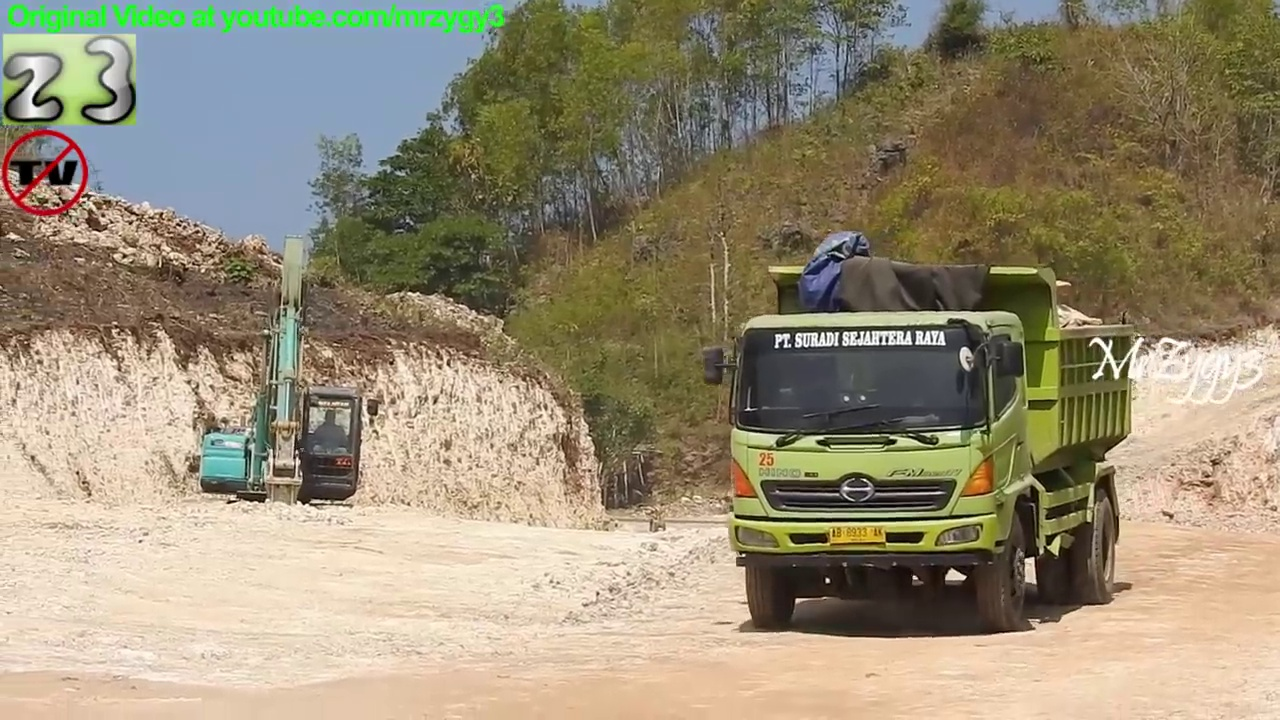excavator: (191, 231, 391, 540)
truck: (695, 255, 1143, 638)
